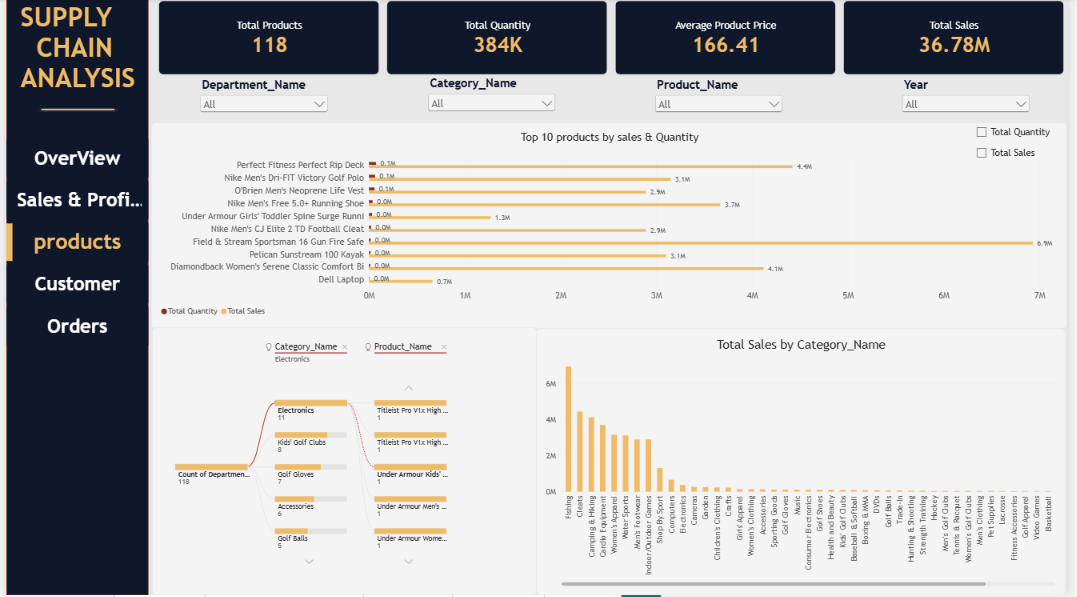

What the dashboard file says about the page in this screenshot:
{"tool":"powerbi","page":{"name":"products","canvas":[1920,1080],"ordinal":2},"visuals":[{"type":"shape","box":[0,0,257,1080.4],"z":0},{"type":"textbox","box":[25.3,5.4,244.3,199.1],"z":1},{"type":"pageNavigator","box":[0,254.8,257.1,376.2],"z":2},{"type":"shape","box":[54.3,191.8,150.2,12.7],"z":3},{"type":"cardVisual","fields":{"Data":["Table.Total Products","Table.Total Quantity","Table.Average Product Price","Table.Total Sales"]},"box":[271.4,0,1647.6,142.9],"z":4},{"type":"clusteredBarChart","title":"Top 10 products by sales & Quantity","fields":{"Category":["DimProduct.Product_Name"],"Y":["Table.Total Sales"]},"box":[261.9,223.8,1657.1,373.8],"z":5},{"type":"slicer","fields":{"Values":["Parameter.Parameter"]},"box":[1748,222,166.7,109.5],"z":6},{"type":"slicer","fields":{"Values":["DimProduct.Department_Name"]},"box":[345.2,142.9,240.9,257.5],"z":7},{"type":"slicer","fields":{"Values":["DimProduct.Product_Name"]},"box":[1169,142.9,240.5,81],"z":8},{"type":"slicer","fields":{"Values":["DimProduct.Category_Name"]},"box":[758,142,240,82],"z":9},{"type":"slicer","fields":{"Values":["Date.Date.Variation.Date Hierarchy.Year"]},"box":[1616.7,142.9,240.5,81],"z":10},{"type":"decompositionTreeVisual","fields":{"Analyze":["CountNonNull(DimProduct.Department_Name)"],"ExplainBy":["DimProduct.Category_Name","DimProduct.Product_Name"]},"box":[264,596,696,484],"z":11},{"type":"columnChart","fields":{"Category":["DimProduct.Category_Name"],"Y":["Table.Total Sales"]},"box":[960,596.7,956.7,483.3],"z":12}]}

Visuals, with their boxes in screenshot pixels (x1, y1, x2, y2), scaled from the page's 1920x1080 canvas onto the 1077x597 screenshot:
shape: l=0, t=0, r=144, b=596
textbox: l=14, t=3, r=151, b=113
pageNavigator: l=0, t=141, r=144, b=349
shape: l=30, t=106, r=115, b=113
cardVisual - Table.Total Products x Table.Total Quantity: l=152, t=0, r=1076, b=79
"Top 10 products by sales & Quantity" clusteredBarChart: l=147, t=124, r=1076, b=330
slicer - Parameter.Parameter: l=981, t=123, r=1074, b=183
slicer - DimProduct.Department_Name: l=194, t=79, r=329, b=221
slicer - DimProduct.Product_Name: l=656, t=79, r=791, b=124
slicer - DimProduct.Category_Name: l=425, t=78, r=560, b=124
slicer - Date.Date.Variation.Date Hierarchy.Year: l=907, t=79, r=1042, b=124
decompositionTreeVisual - CountNonNull(DimProduct.Department_Name) x DimProduct.Category_Name: l=148, t=329, r=538, b=596
columnChart - DimProduct.Category_Name x Table.Total Sales: l=538, t=330, r=1075, b=596
